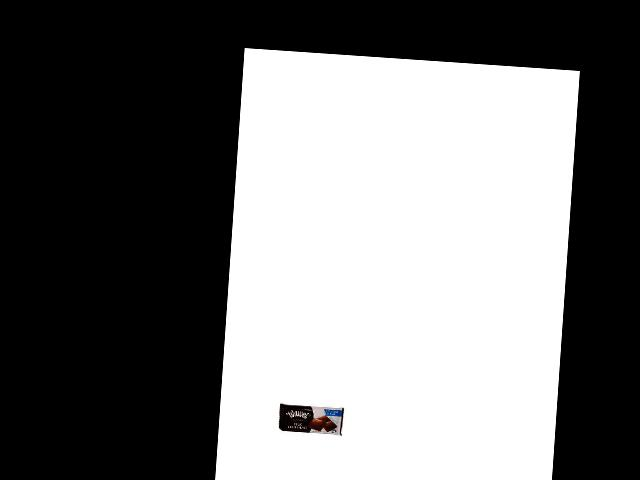chocolate: (278, 402, 344, 436)
